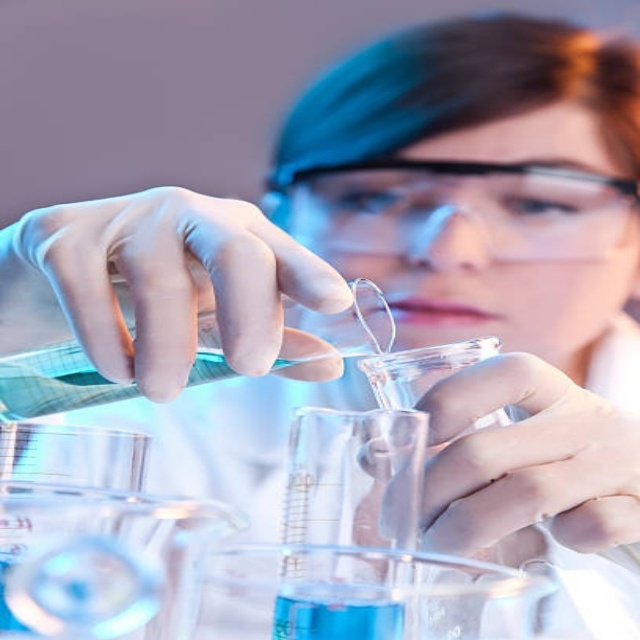Gafas: (271, 164, 638, 264)
Guantes: (6, 185, 342, 398), (416, 345, 634, 572)
Sin_mascara: (374, 297, 501, 328)
